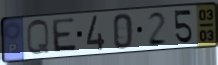0: (112, 12, 134, 51)
2: (145, 11, 169, 47)
4: (86, 14, 107, 52)
5: (173, 10, 194, 45)
E: (51, 17, 79, 54)
Q: (25, 18, 52, 58)
